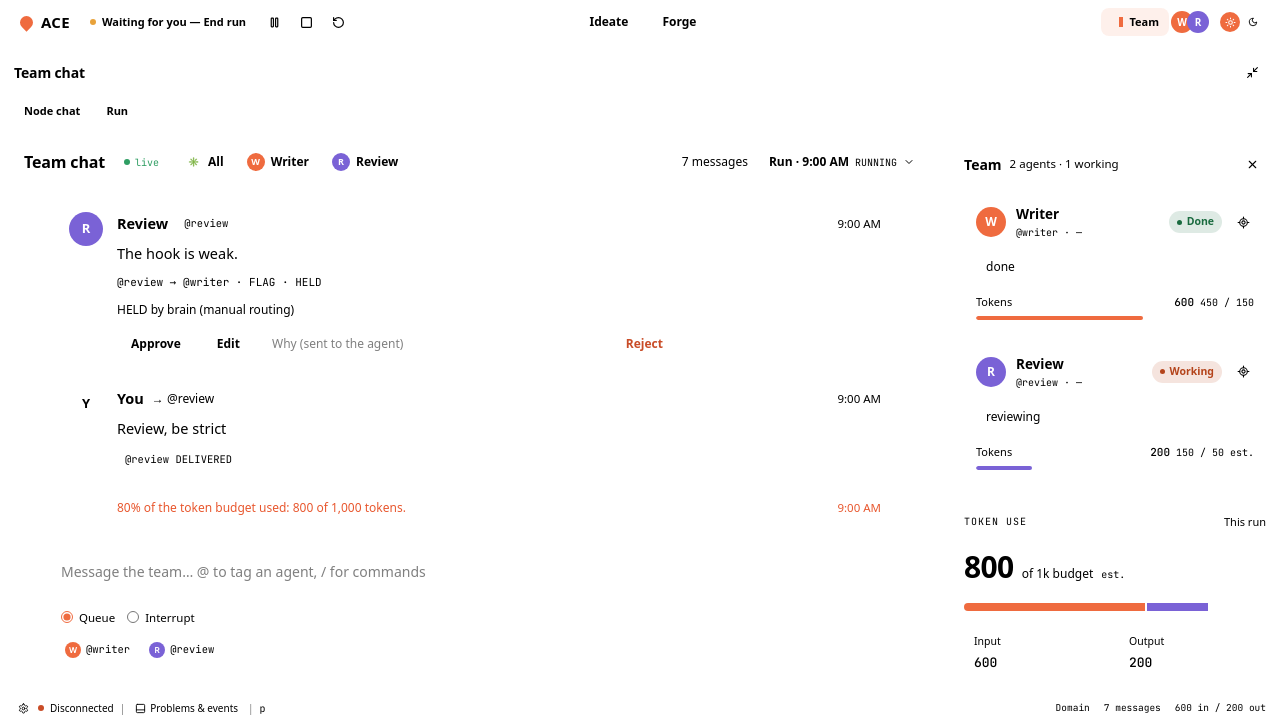
Test case: Domain page › the composer sends to the nodes it previews, and the message arrives live
(page scrolled)
In the text box with placeholder "Message the team… @ to tag an agent, / for commands": (477, 582) [61,561,893,603], type "Writer, make it shorter"
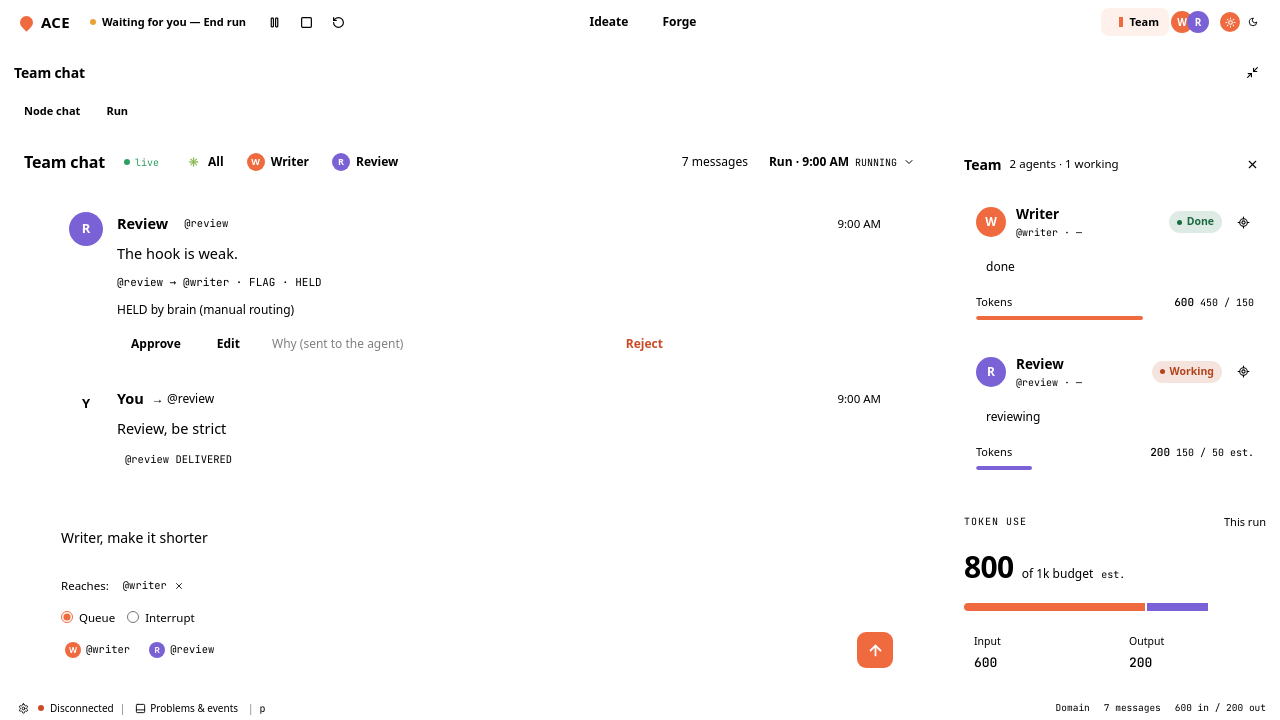
Click the button named "Send": click(875, 650) [857,632,893,668]
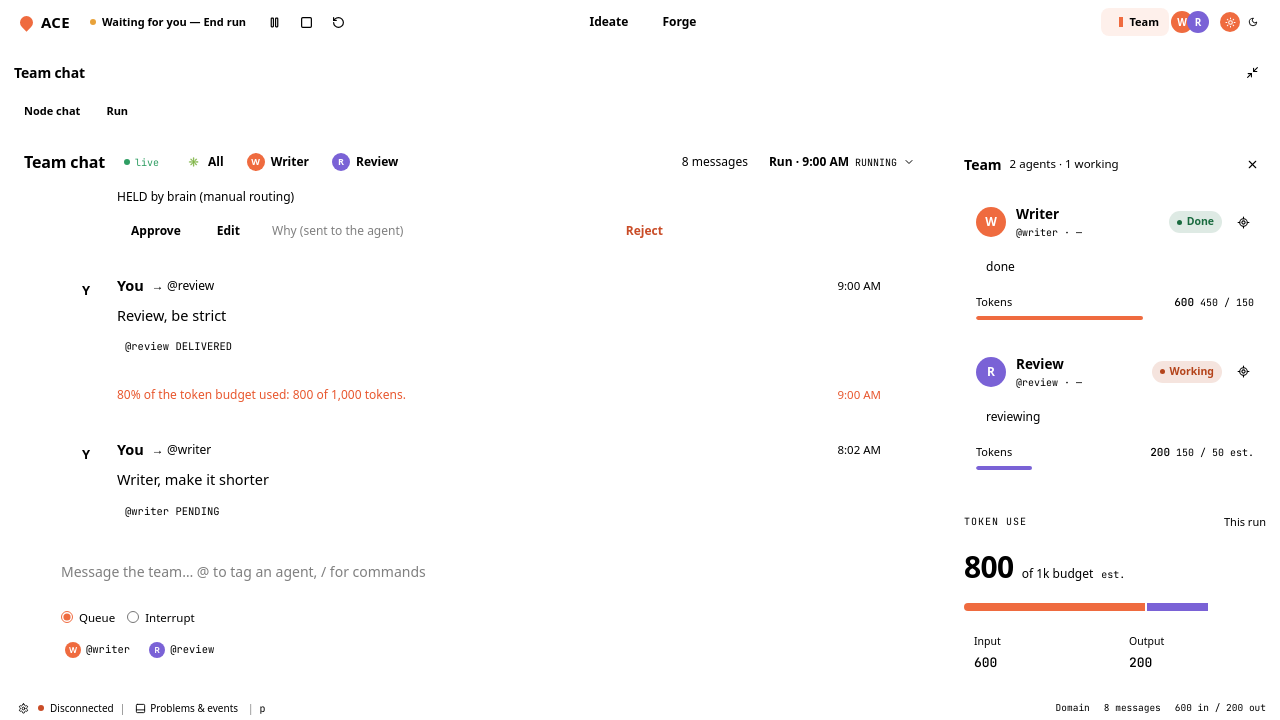
Expected: the text with test id "delivery-writer" shows "PENDING", [175,504,220,518]
